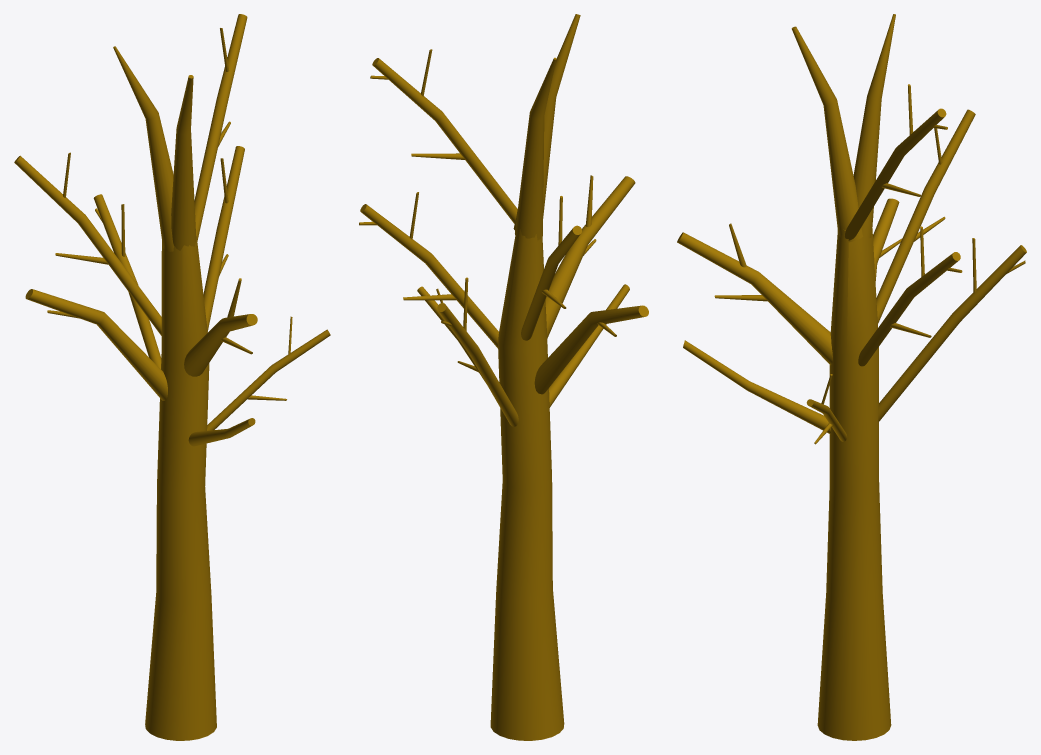
The model's file is ArbreMort.fbx.
3 renders of one model, left to right at view 1: azimuth 30°, elevation 25°; view 2: azimuth 150°, elevation 25°; view 3: azimuth 270°, elevation 25°, orthographic. The views are drawn at different scales.
Parts seen in each view (by area): view 1: polySurface1; view 2: polySurface1; view 3: polySurface1.
Part boxes in pixels (bbox=[...]): polySurface1: bbox=[14, 14, 330, 740]; polySurface1: bbox=[359, 14, 648, 740]; polySurface1: bbox=[677, 14, 1026, 740].
Size of the model in its own units: 17.19 by 42.1 by 19.38.
